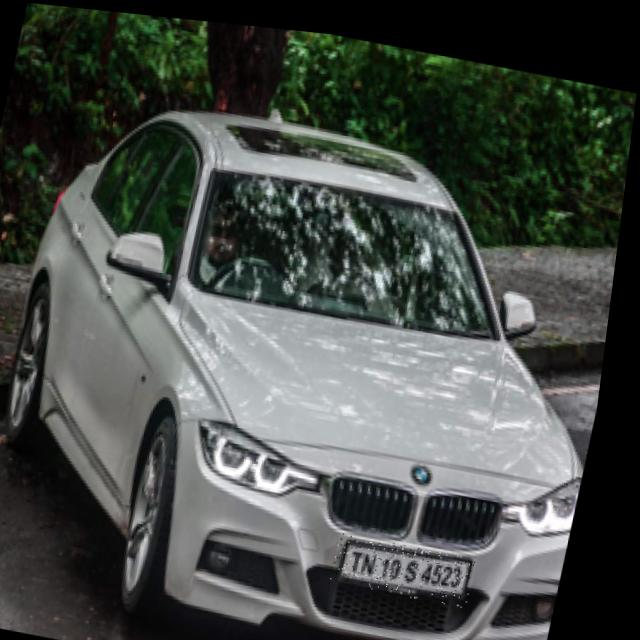license_plate: (342, 523, 491, 597)
